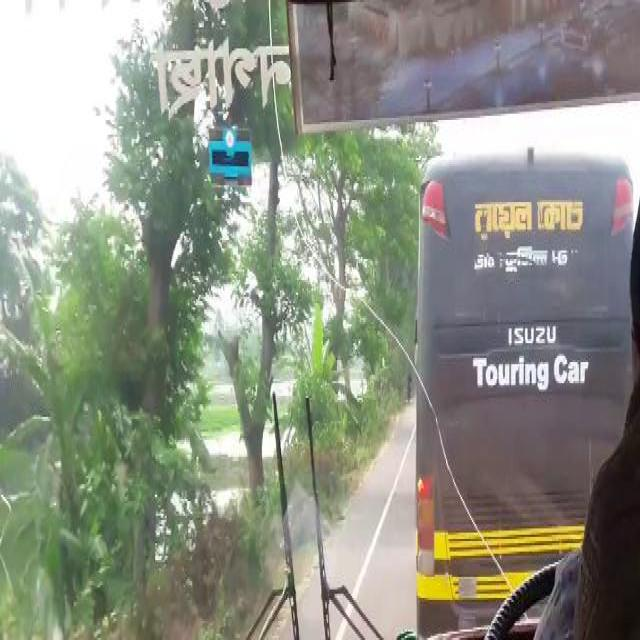bus: (412, 172, 626, 630)
